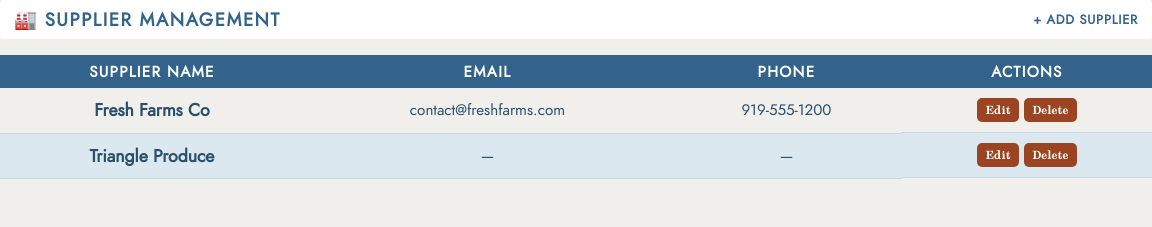
Scenario: AdminSuppliersPage › shows save validation error
Check: the text "Fresh Farms Co" is shown, box [0, 88, 304, 133]
Click the button "Edit" in the row of "Fresh Farms Co" at (998, 110), box [977, 98, 1019, 122]
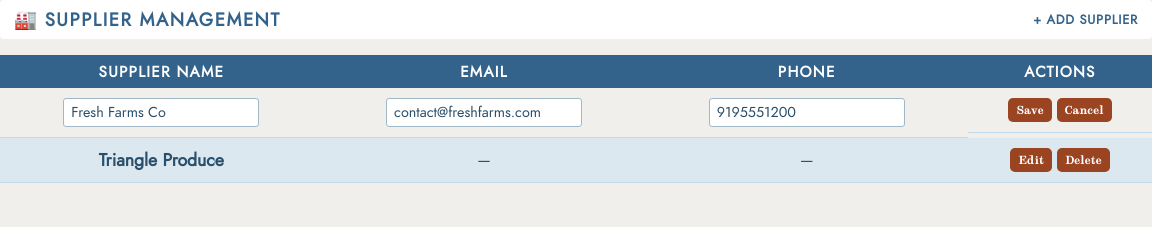
Click the button "Save" at (1030, 110), box [1008, 98, 1052, 122]
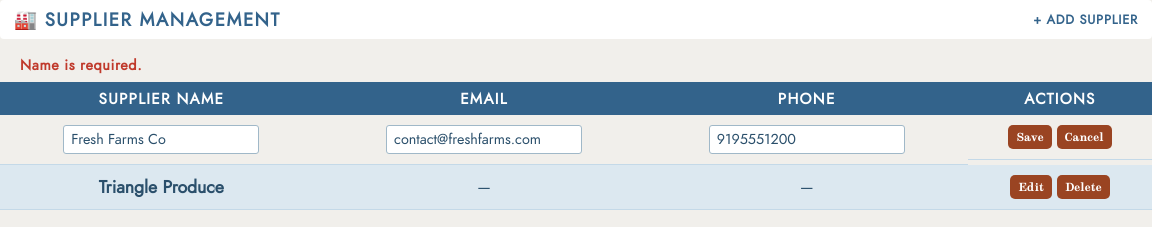
Check: the text "Name is required." is shown, box [20, 55, 142, 75]
